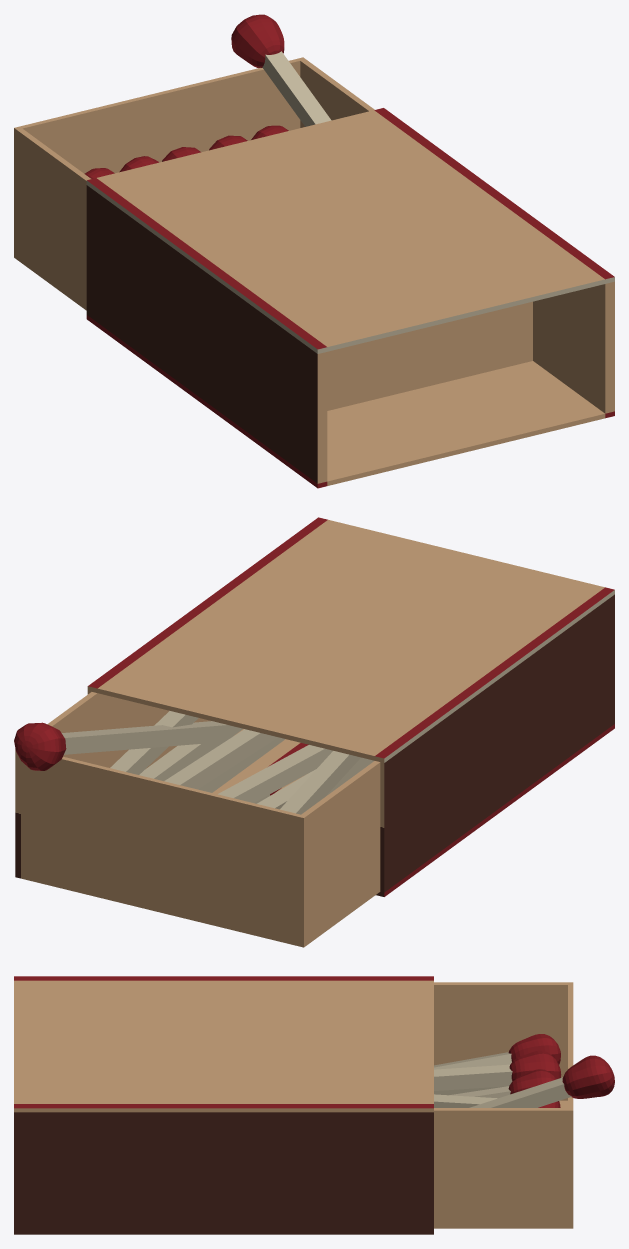
The model's file is stickbox.fbx.
3 views of the same model, one above another, from view 1: azimuth 30°, elevation 25°; view 2: azimuth 150°, elevation 25°; view 3: azimuth 270°, elevation 25° (orthographic). The views are drawn at different scales.
Parts seen in each view (by area): view 1: Cube, 球体.015; view 2: Cube, 球体.015, 球体.014, 球体.010, 球体.013, 球体.008, 球体.009, 球体.007, 球体.012; view 3: Cube, 球体.015, 球体.013, 球体.011, 球体.012, 球体.014.
Boxes of the visible parts, x1,y1,x2,y2 form: Cube: [14, 57, 614, 488]; 球体.015: [231, 14, 331, 126]; Cube: [15, 517, 614, 947]; 球体.015: [14, 721, 226, 770]; 球体.014: [218, 745, 332, 802]; 球体.010: [164, 729, 277, 789]; 球体.013: [280, 751, 360, 814]; 球体.008: [139, 721, 243, 781]; 球体.009: [110, 711, 198, 774]; 球体.007: [198, 737, 285, 792]; 球体.012: [257, 769, 316, 809]; Cube: [14, 976, 573, 1234]; 球体.015: [469, 1055, 614, 1107]; 球体.013: [434, 1050, 561, 1090]; 球体.011: [434, 1034, 560, 1069]; 球体.012: [449, 1069, 558, 1101]; 球体.014: [434, 1094, 559, 1107].
Bounding box in the file's own units: 320 × 180 × 618.
17 materials, 17 textured.
